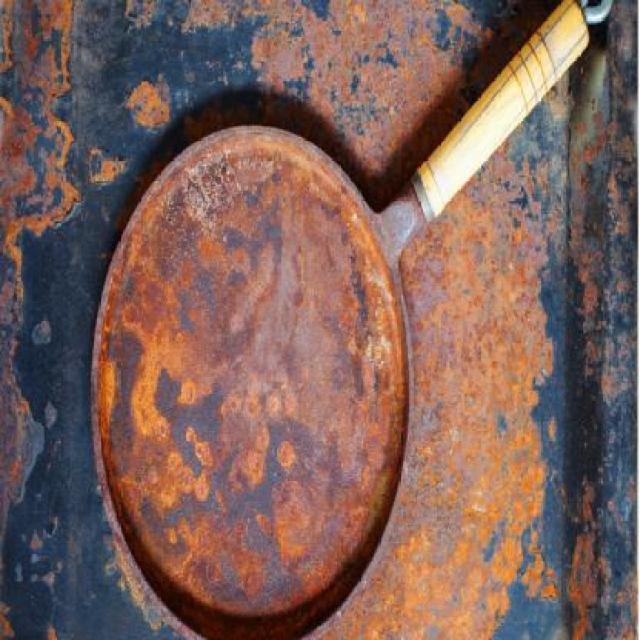corrosion: (0, 0, 640, 640), (91, 118, 418, 640)
